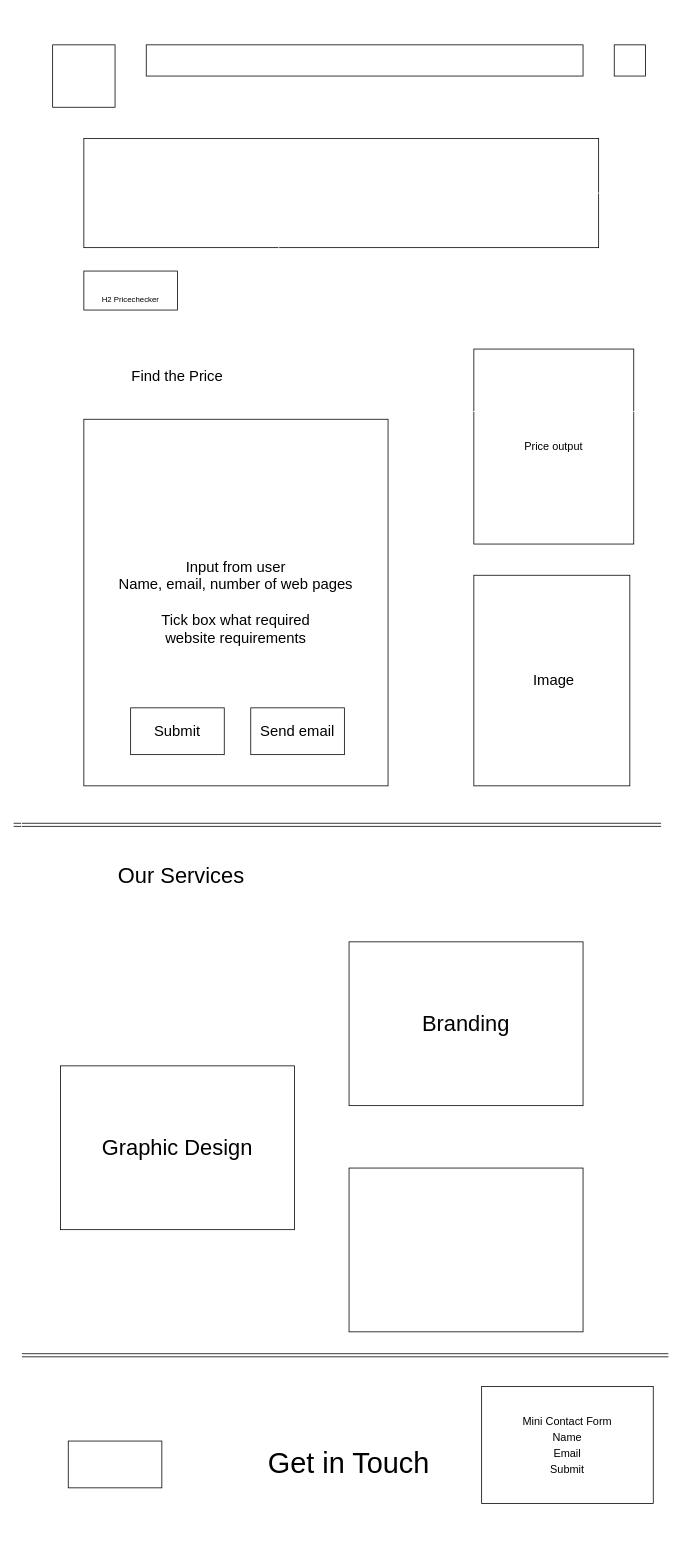
This 690x1548 diagram has some shape labels left out. The centre of each missing label's shape, as x and y in pixels:
"Black Rabbit Digital" belongs at (341,193).
"Home About Portfolio Pricechecker Contact" belongs at (364,60).
"Logo" belongs at (83,75).
"Search" belongs at (629,60).
"Social Media icons" belongs at (114,1464).
